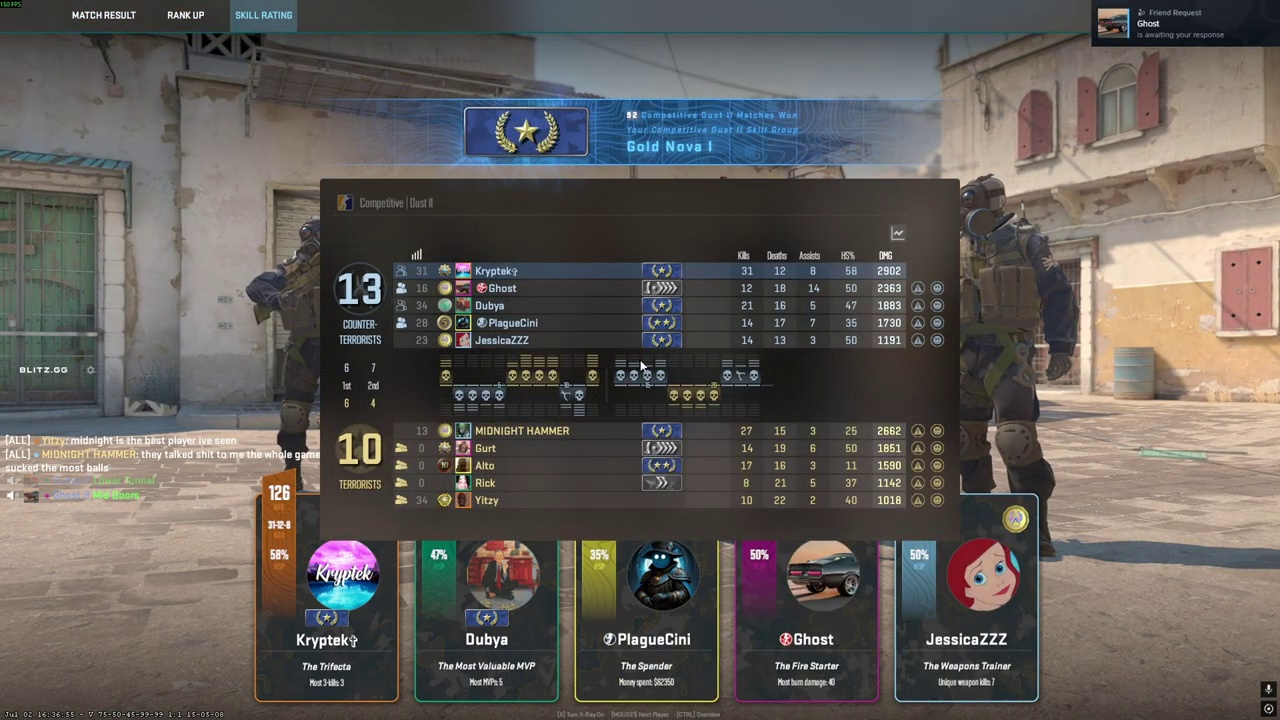CT: (955, 174, 1063, 554), (265, 216, 322, 486)
